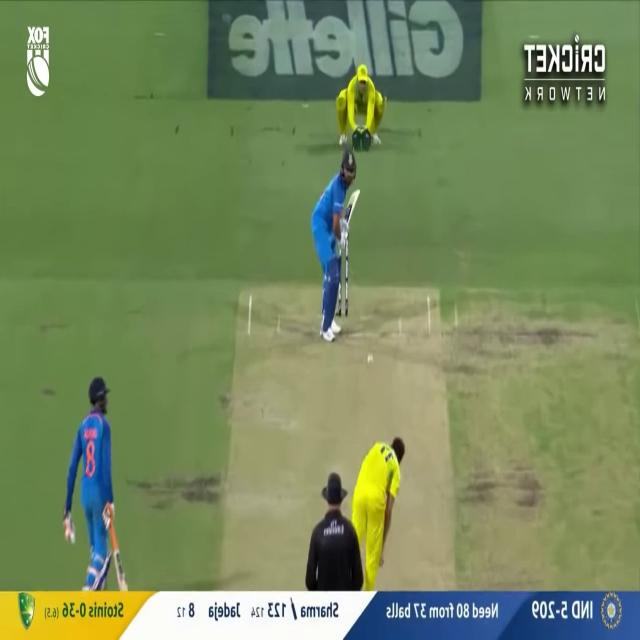ball: (368, 355, 373, 361)
stump: (339, 232, 348, 315), (338, 274, 342, 312)
